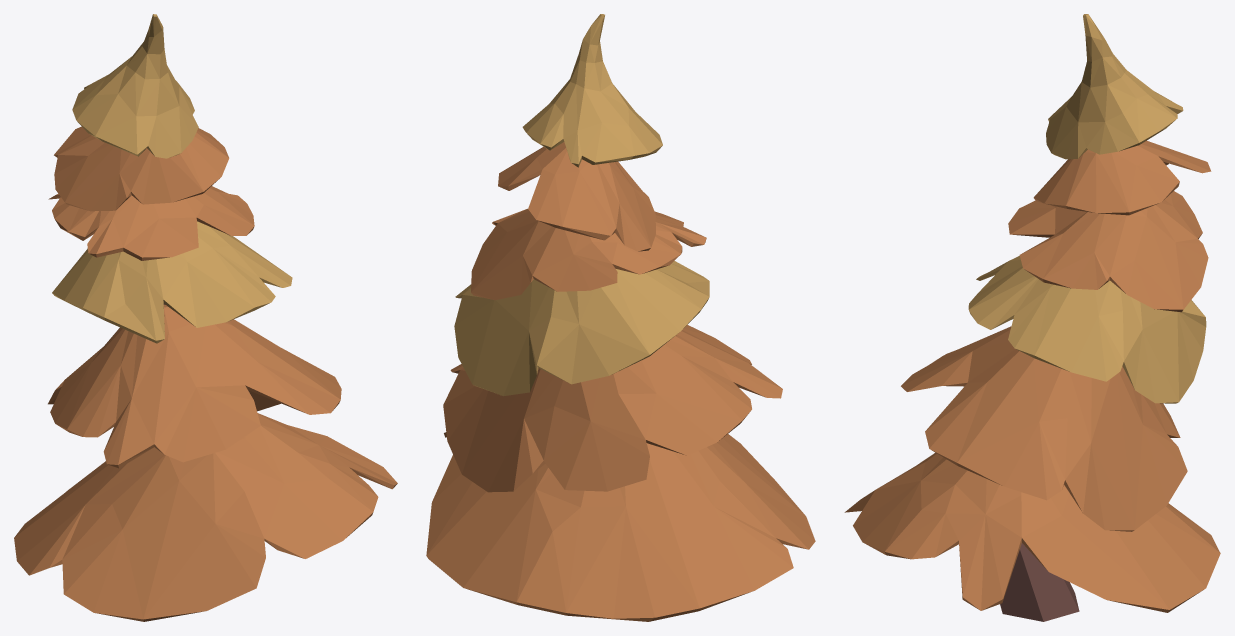
Rendered from PineTree_Autumn_3.lod1.glb.
3 views of the same model, side by side, from view 1: azimuth 30°, elevation 25°; view 2: azimuth 150°, elevation 25°; view 3: azimuth 270°, elevation 25° (orthographic). The views are drawn at different scales.
Visible parts, largest first — view 1: PineTree_Autumn_3; view 2: PineTree_Autumn_3; view 3: PineTree_Autumn_3.
Part boxes in pixels (left/top/right/bottom): PineTree_Autumn_3: left=14, top=14, right=397, bottom=621; PineTree_Autumn_3: left=426, top=14, right=815, bottom=621; PineTree_Autumn_3: left=844, top=14, right=1220, bottom=621.
Bounding box in the file's own units: 2.15 × 3.3 × 1.95.
